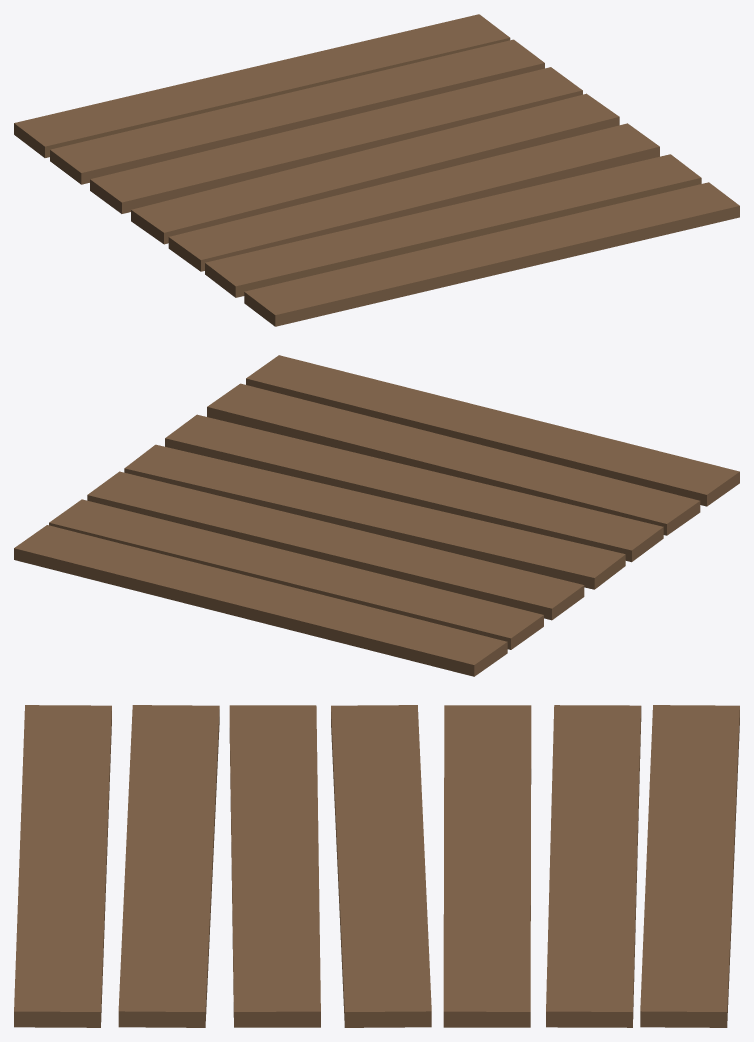
The model's file is Path_Plank_2x2.fbx.
The picture shows the model from 3 angles, top to bottom: view 1: azimuth 30°, elevation 25°; view 2: azimuth 150°, elevation 25°; view 3: azimuth 270°, elevation 25°; orthographic projection. The views are drawn at different scales.
Parts seen in each view (by area): view 1: Path_Plank_2x2; view 2: Path_Plank_2x2; view 3: Path_Plank_2x2.
Part boxes in pixels (x1,y1,x2,y2): Path_Plank_2x2: [14, 14, 739, 326]; Path_Plank_2x2: [14, 355, 739, 676]; Path_Plank_2x2: [14, 705, 739, 1027].
Size of the model in its own units: 200 by 4.81 by 200.
